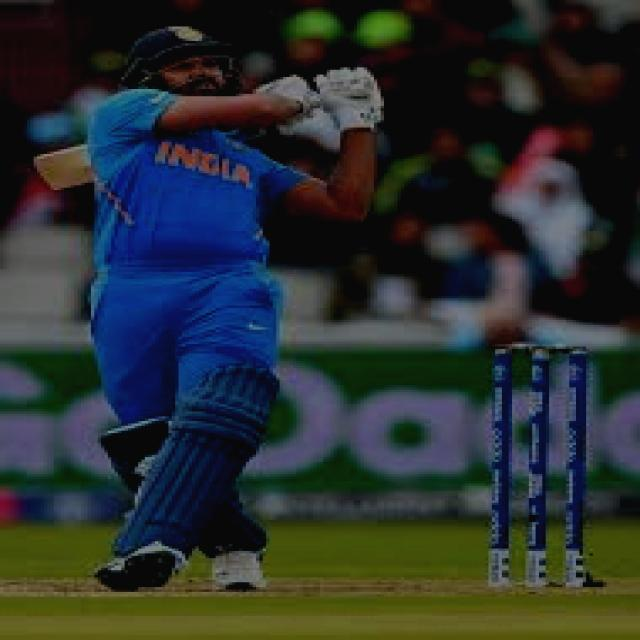toe: (25, 150, 72, 194)
